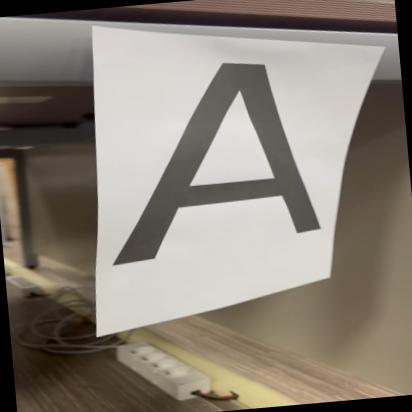seat: (106, 50, 333, 278)
